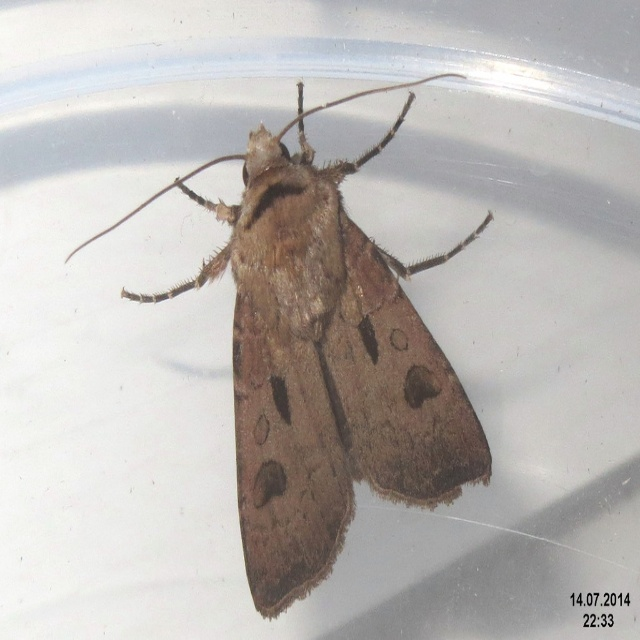Moths and butterflies: (65, 68, 492, 623)
